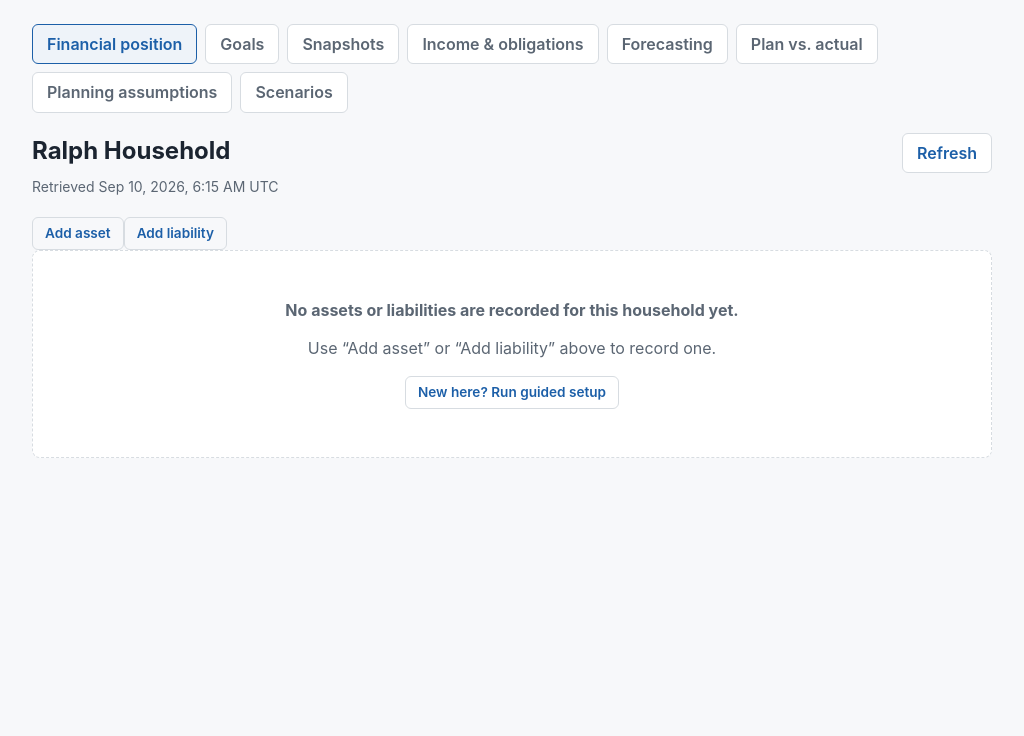
goals list › renders every documented field for each goal
Expected: the heading "Ralph Household" is shown, [32,134,230,167]
Click the button "Goals" at x=242, y=44, box [205,24,279,64]
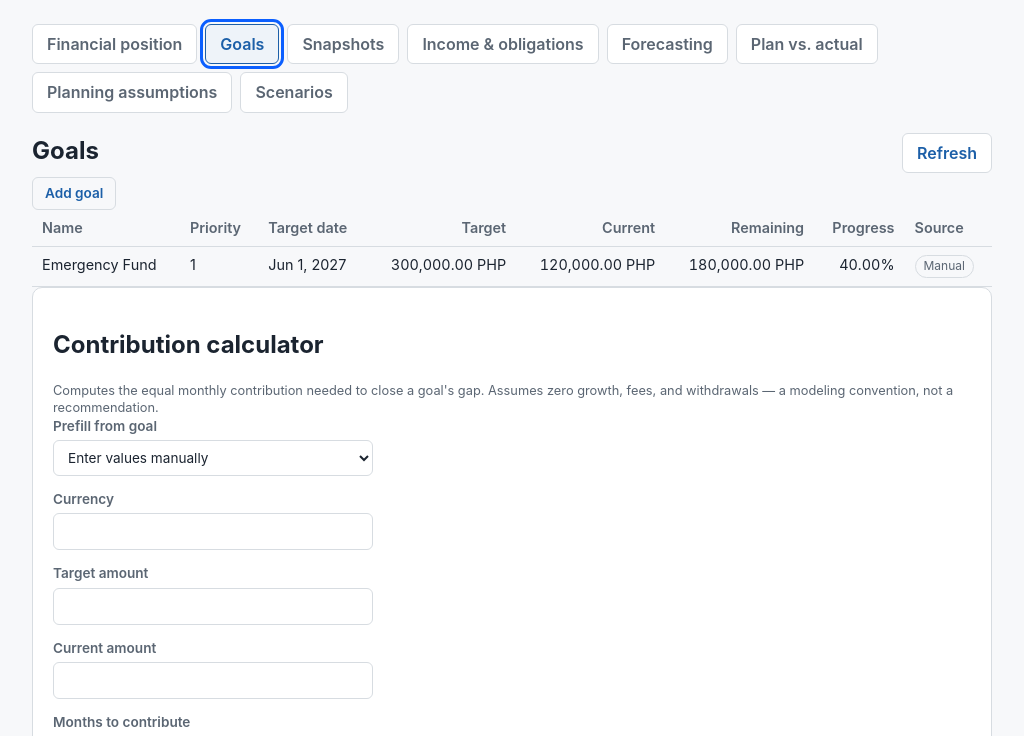
Now the heading "Goals" is shown, box [32,134,99,167]
Now the text "1" is shown, box [180,247,258,287]
Now the text "Jun 1, 2027" is shown, box [268,256,346,273]
